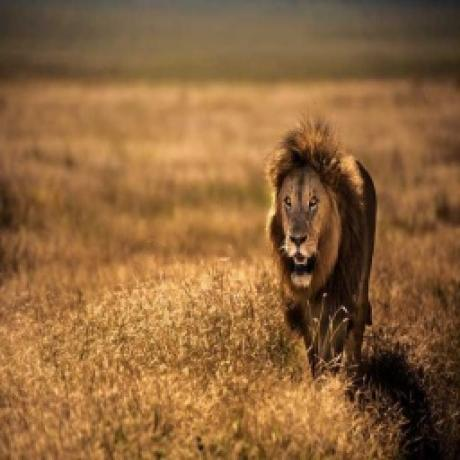Lion: (270, 122, 380, 369)
